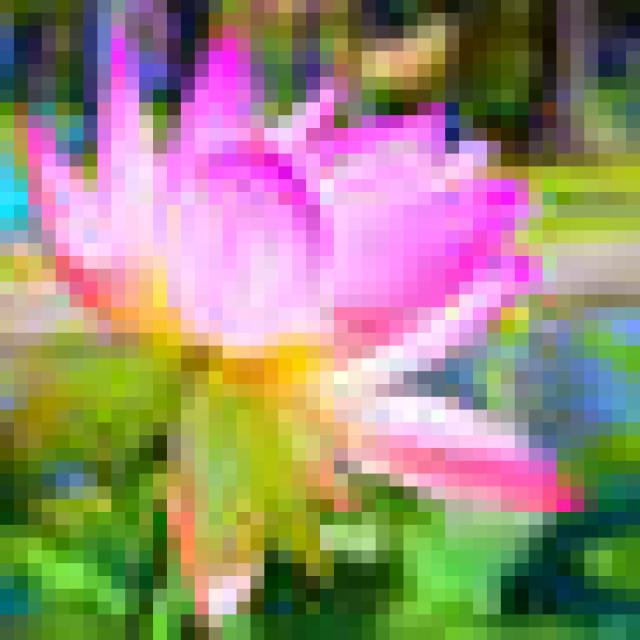lotus: (8, 20, 606, 635)
